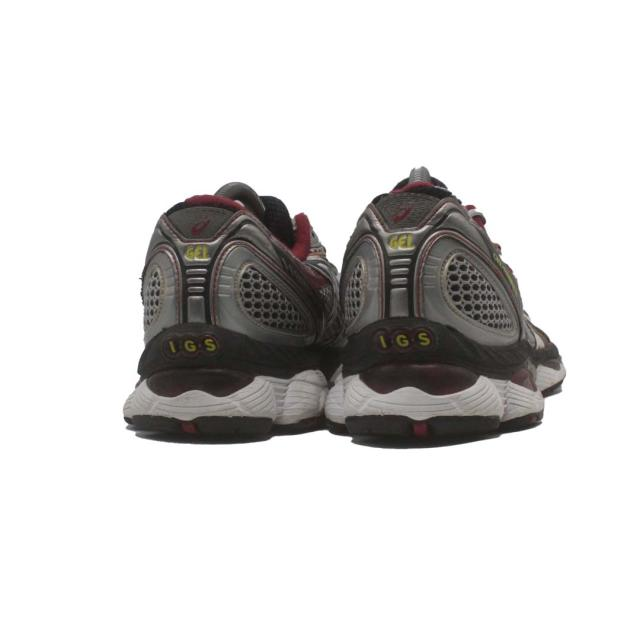heel: (337, 187, 520, 373), (141, 193, 320, 364)
midsole: (319, 355, 568, 446), (123, 362, 319, 442)
